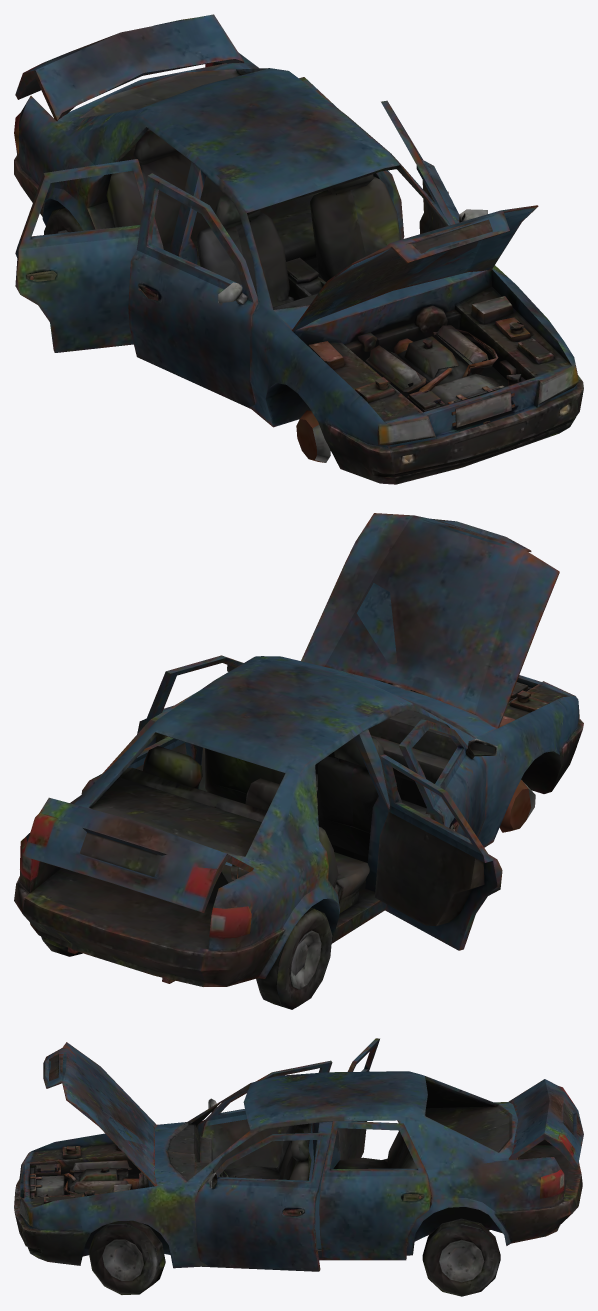
Rendered from wreck_sedan.gltf.
3 renders of one model, top to bottom at view 1: azimuth 30°, elevation 25°; view 2: azimuth 150°, elevation 25°; view 3: azimuth 270°, elevation 25°, orthographic. The views are drawn at different scales.
Visible parts, largest first — view 1: wreck_sedan; view 2: wreck_sedan; view 3: wreck_sedan.
Part boxes in pixels (box(x1,y1,x2,y2)): wreck_sedan: box(14, 14, 583, 484); wreck_sedan: box(14, 513, 583, 1009); wreck_sedan: box(14, 1038, 583, 1296).
Size of the model in its own units: 2.72 by 1.65 by 4.55.
1 material, 1 textured.
